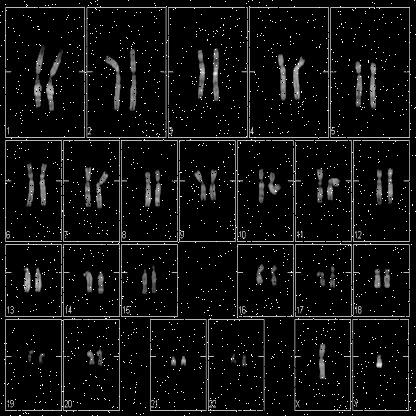1: (46, 46, 63, 114), (32, 42, 46, 110)
10: (267, 170, 282, 196), (256, 166, 265, 206)
11: (326, 174, 340, 202), (316, 166, 324, 204)
12: (374, 166, 384, 206), (386, 166, 395, 206)
13: (20, 266, 32, 294), (34, 266, 42, 295)
14: (82, 268, 94, 296), (94, 269, 106, 297)
15: (139, 266, 149, 298), (150, 262, 158, 294)
16: (256, 262, 266, 286), (269, 264, 278, 288)
17: (314, 269, 326, 289), (329, 263, 336, 289)
18: (383, 267, 392, 289), (372, 266, 380, 290)
19: (25, 346, 35, 366), (37, 350, 46, 366)
2: (103, 54, 122, 113), (127, 46, 137, 114)
20: (85, 348, 95, 366), (95, 347, 103, 367)
21: (178, 354, 187, 369), (169, 354, 177, 370)
22: (239, 350, 247, 370), (228, 352, 237, 368)
3: (194, 48, 208, 102), (211, 46, 222, 106)
4: (292, 56, 307, 104), (275, 51, 288, 103)
5: (352, 58, 364, 110), (369, 61, 379, 111)
6: (24, 160, 35, 208), (39, 161, 49, 208)
7: (94, 172, 110, 210), (84, 166, 92, 210)
8: (152, 168, 162, 208), (142, 170, 152, 209)
9: (194, 168, 208, 202), (209, 166, 217, 203)
X: (318, 340, 328, 382)
Y: (375, 352, 383, 370)
